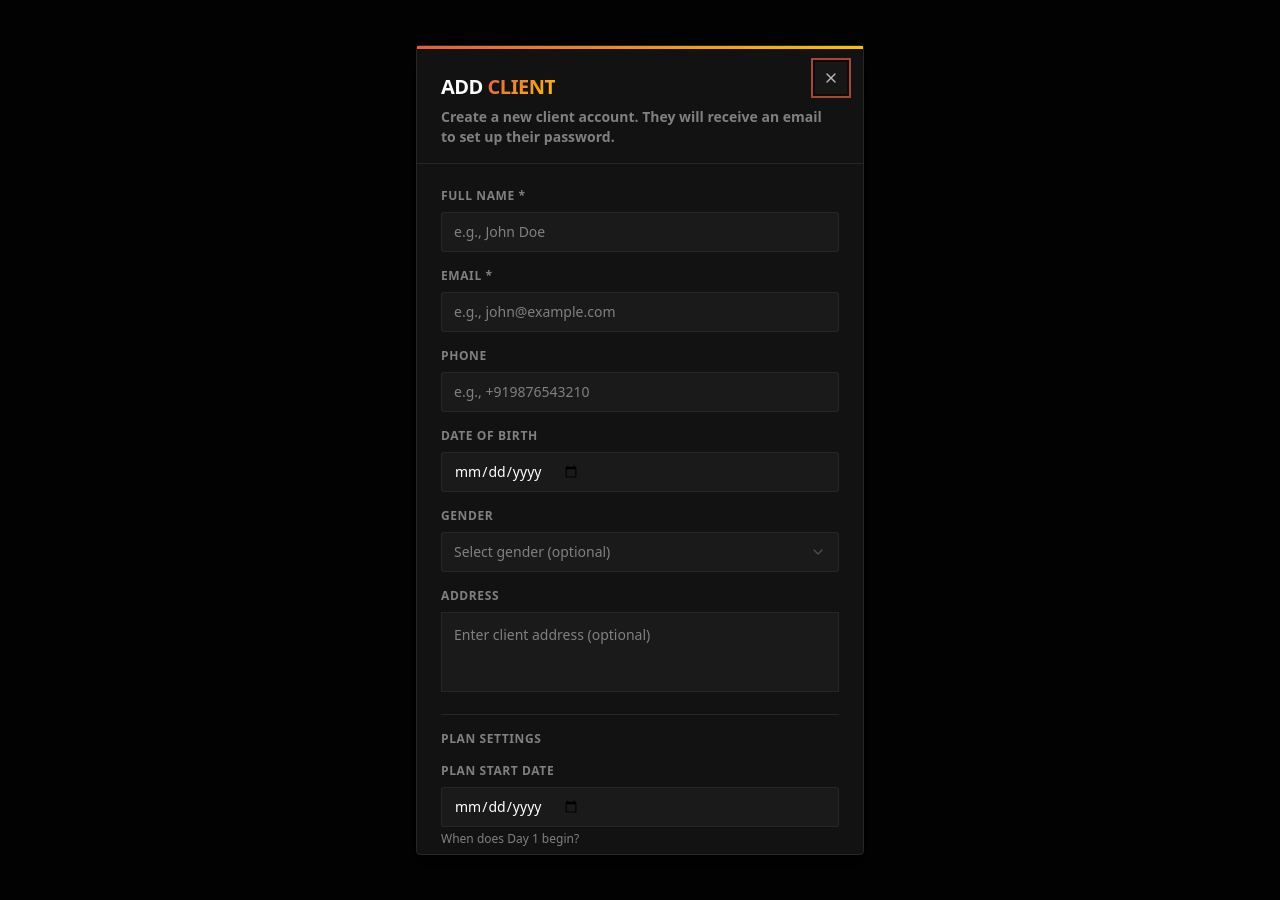
Test: AddClientModal Component › Error Handling › shows validation error details from server
This screenshot has width=1280, height=900.
Type "John Doe" into the field labelled "Full Name *". click: (640, 232)
box: [441,212,839,252]
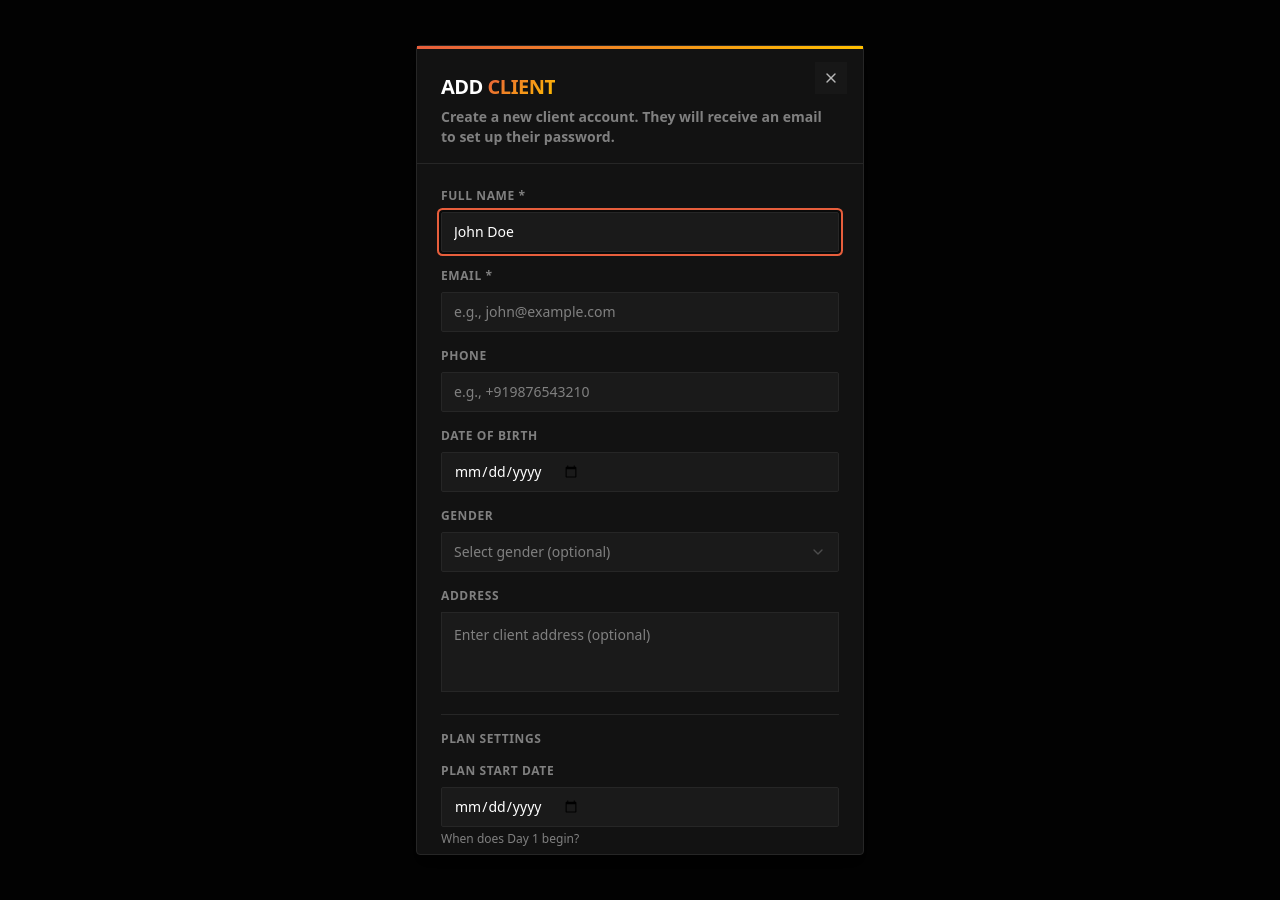
Type "test@test.com" into the field labelled "Email *". click: (640, 312)
box: [441,292,839,332]
(page scrolled)
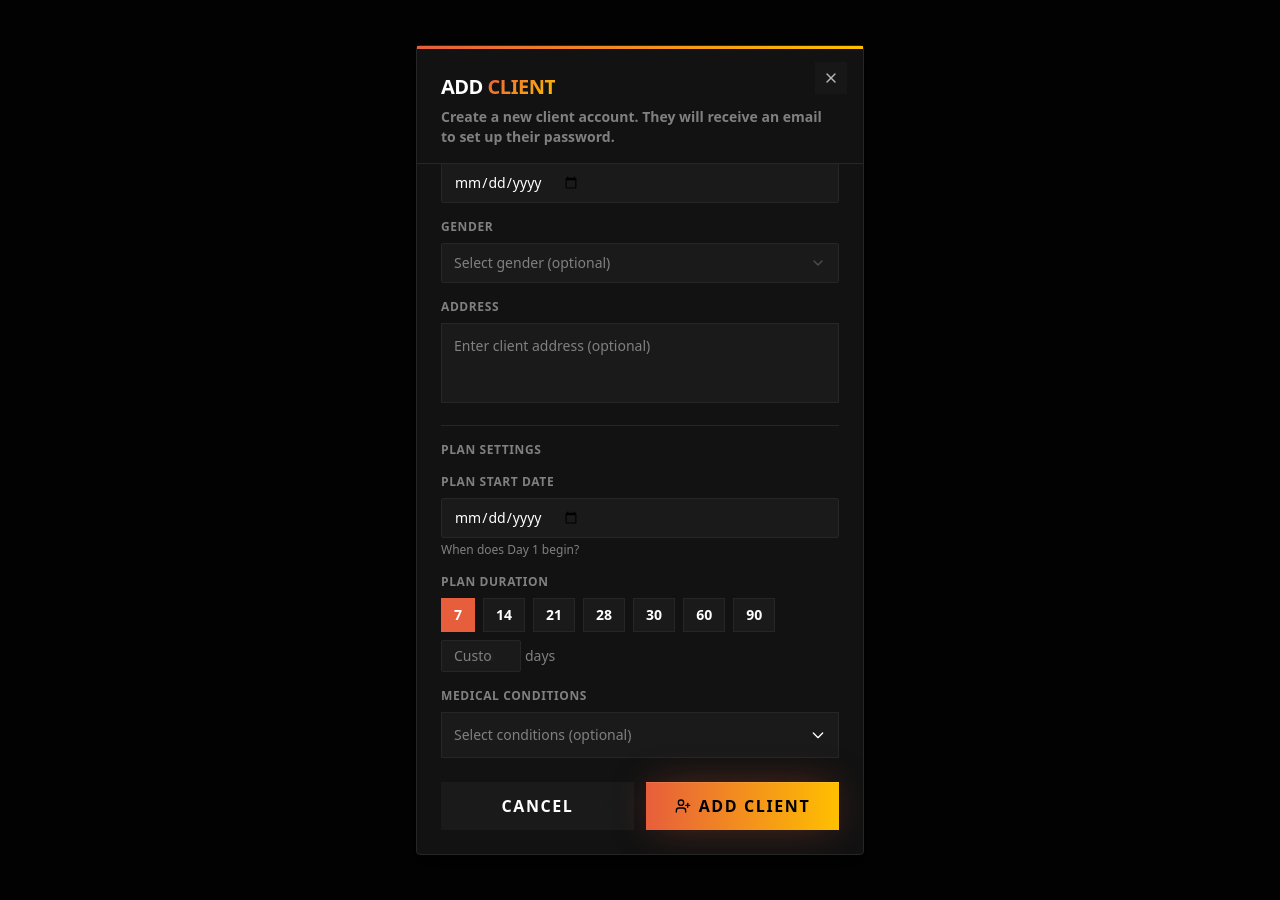
Click the button "Add Client". click: (742, 806)
box: [646,782,839,830]
(page scrolled)
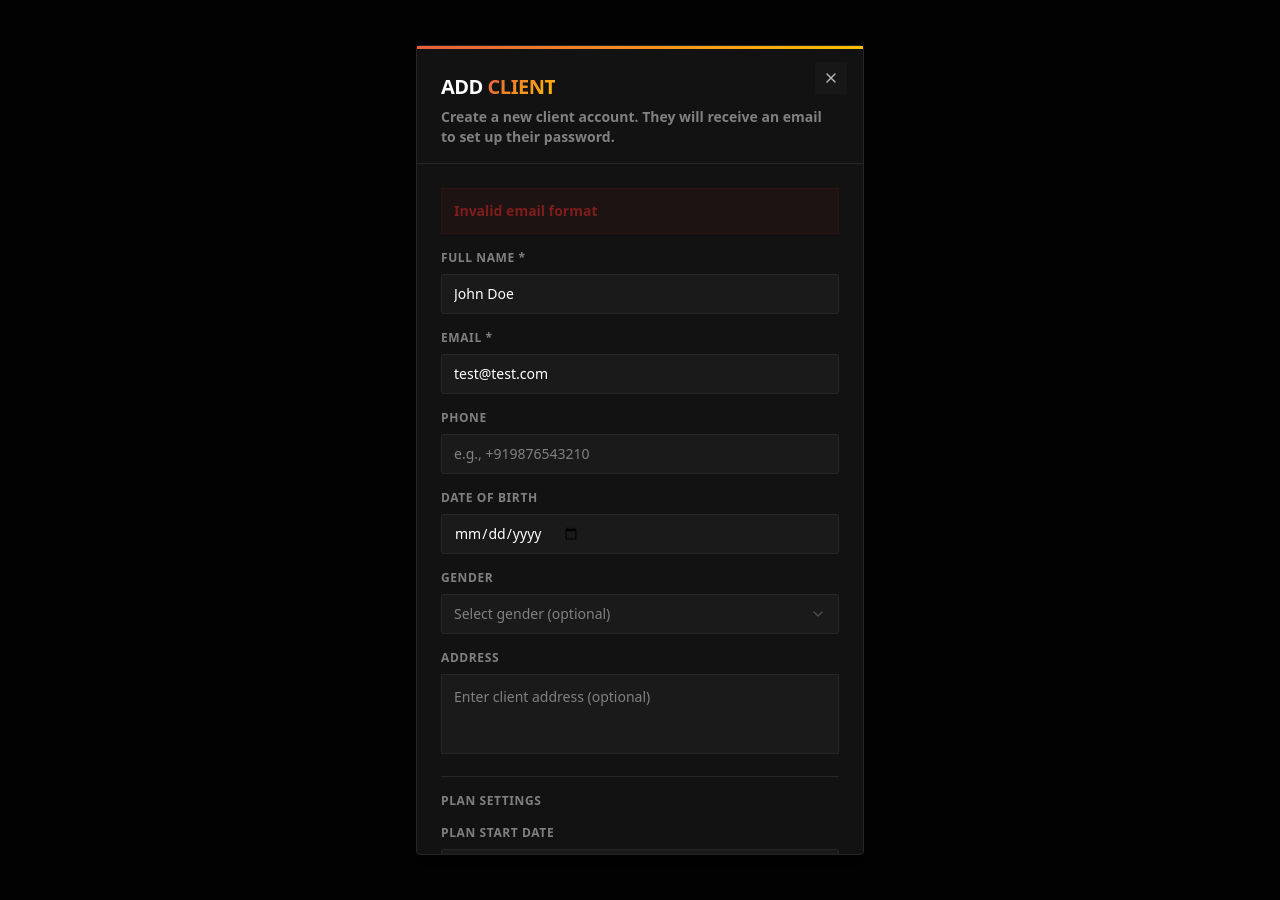
Check: the text "Invalid email format" is shown, box [441,188,839,234]
